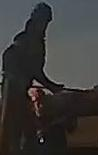vest: (2, 33, 45, 107)
